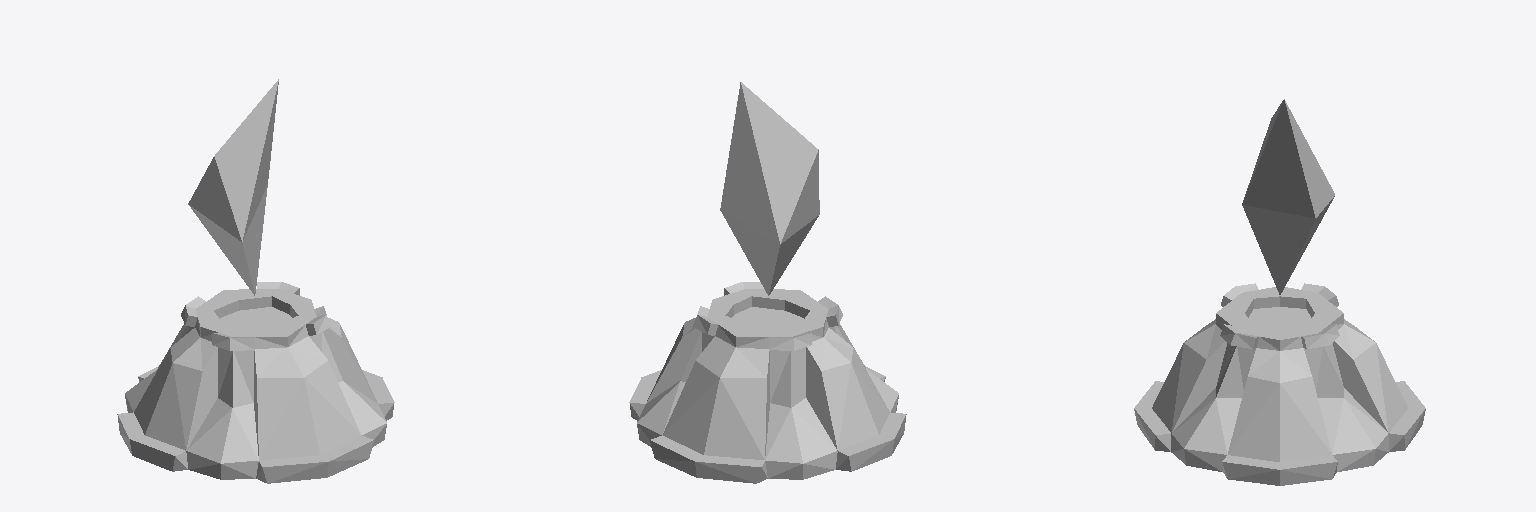
The model's file is heal.obj.
The picture shows the model from 3 angles: view 1: azimuth 30°, elevation 25°; view 2: azimuth 150°, elevation 25°; view 3: azimuth 270°, elevation 25°; orthographic projection.
Parts seen in each view (by area): view 1: Healer; view 2: Healer; view 3: Healer.
Boxes of the visible parts, x1=… form: Healer: x1=117, y1=79, x2=394, y2=483; Healer: x1=629, y1=82, x2=906, y2=483; Healer: x1=1134, y1=99, x2=1425, y2=485.
Size of the model in its own units: 0.9118 by 1.17 by 0.9118.